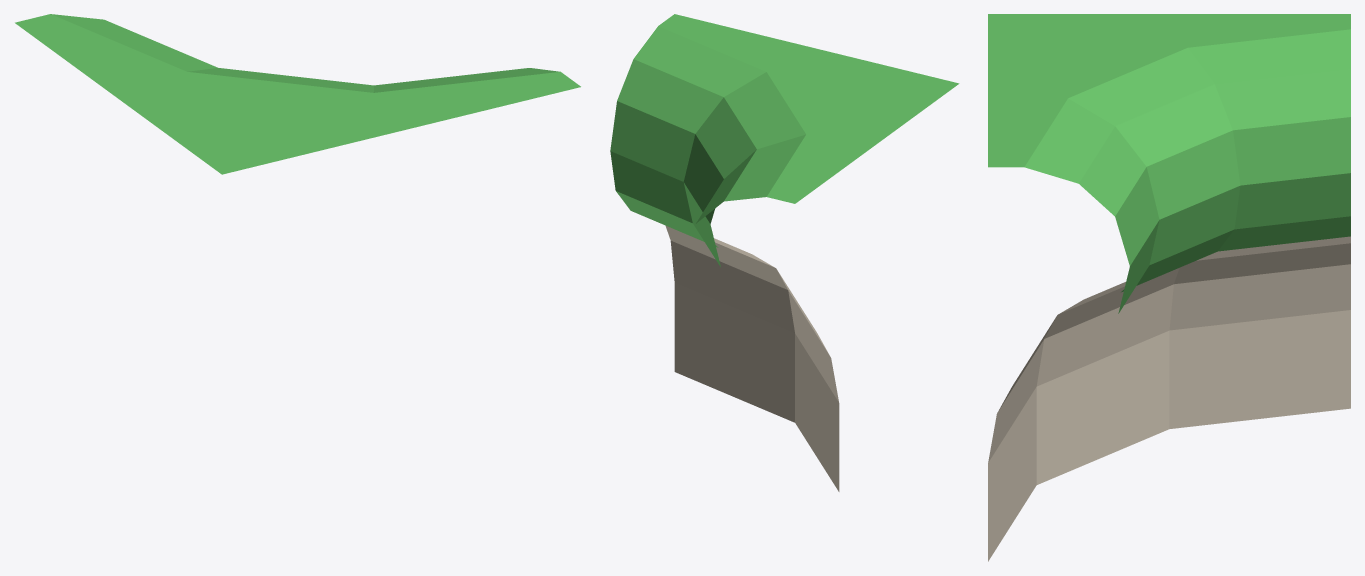
File: Escarpment_Terrain_Corner_Inner_1x1_Top.glb
3 views of the same model, side by side, from view 1: azimuth 30°, elevation 25°; view 2: azimuth 150°, elevation 25°; view 3: azimuth 270°, elevation 25° (orthographic). The views are drawn at different scales.
Visible parts, largest first — view 1: Escarpment_Terrain_Corner_Inner_1x1_Top; view 2: Escarpment_Terrain_Corner_Inner_1x1_Top; view 3: Escarpment_Terrain_Corner_Inner_1x1_Top.
Boxes of the visible parts, bbox=[...] form: Escarpment_Terrain_Corner_Inner_1x1_Top: bbox=[15, 14, 580, 174]; Escarpment_Terrain_Corner_Inner_1x1_Top: bbox=[610, 14, 959, 491]; Escarpment_Terrain_Corner_Inner_1x1_Top: bbox=[988, 14, 1350, 561].
Bounding box in the file's own units: 1 × 1.2 × 1.
